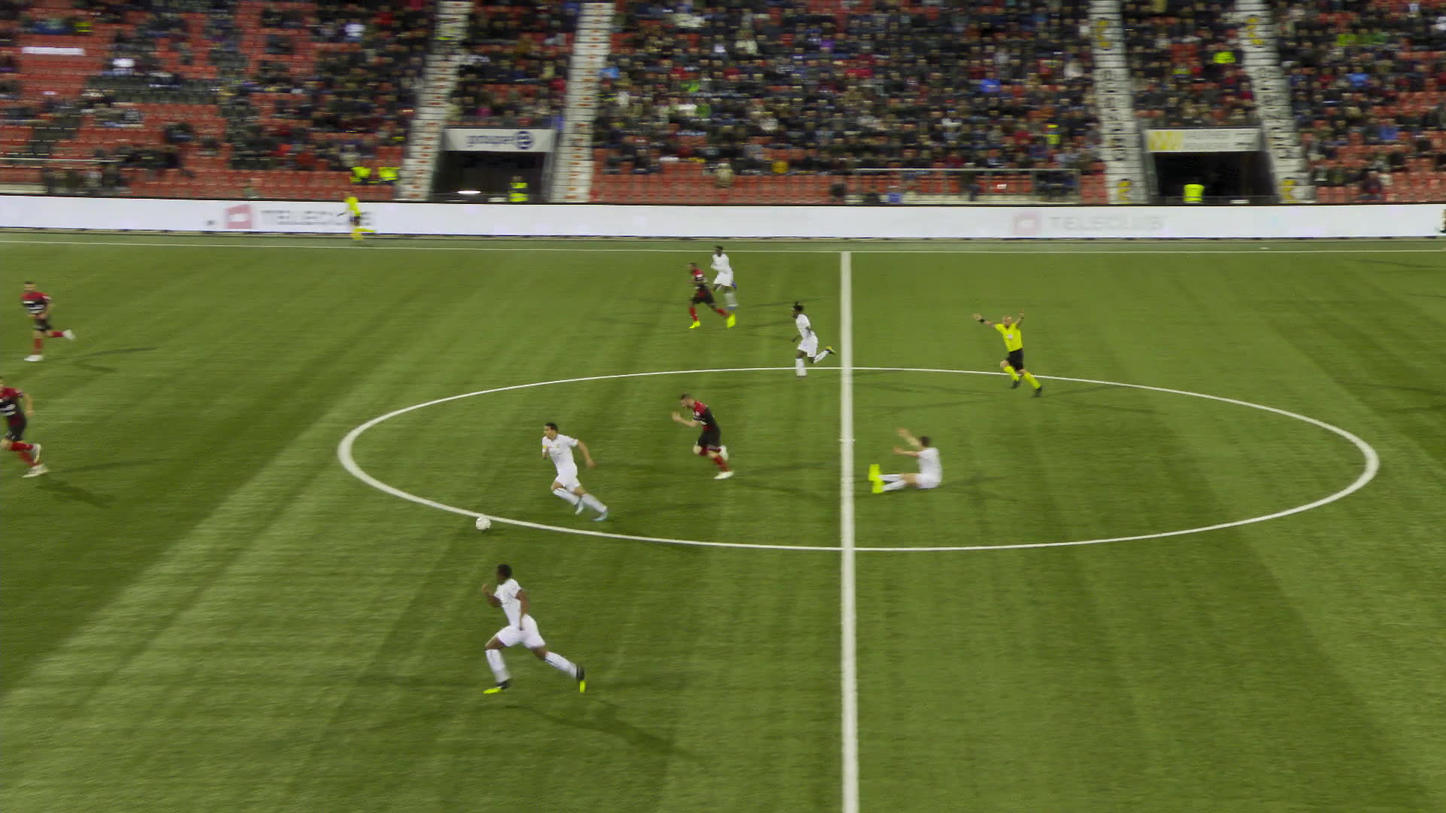ball: (477, 517, 491, 528)
player: (486, 565, 565, 701), (676, 394, 748, 480), (538, 421, 592, 525), (854, 428, 929, 495), (783, 301, 839, 379), (5, 390, 52, 480), (14, 282, 61, 361), (702, 243, 747, 306), (679, 264, 717, 332), (1426, 209, 1445, 271)
referee: (971, 311, 1032, 399), (330, 190, 365, 242)
